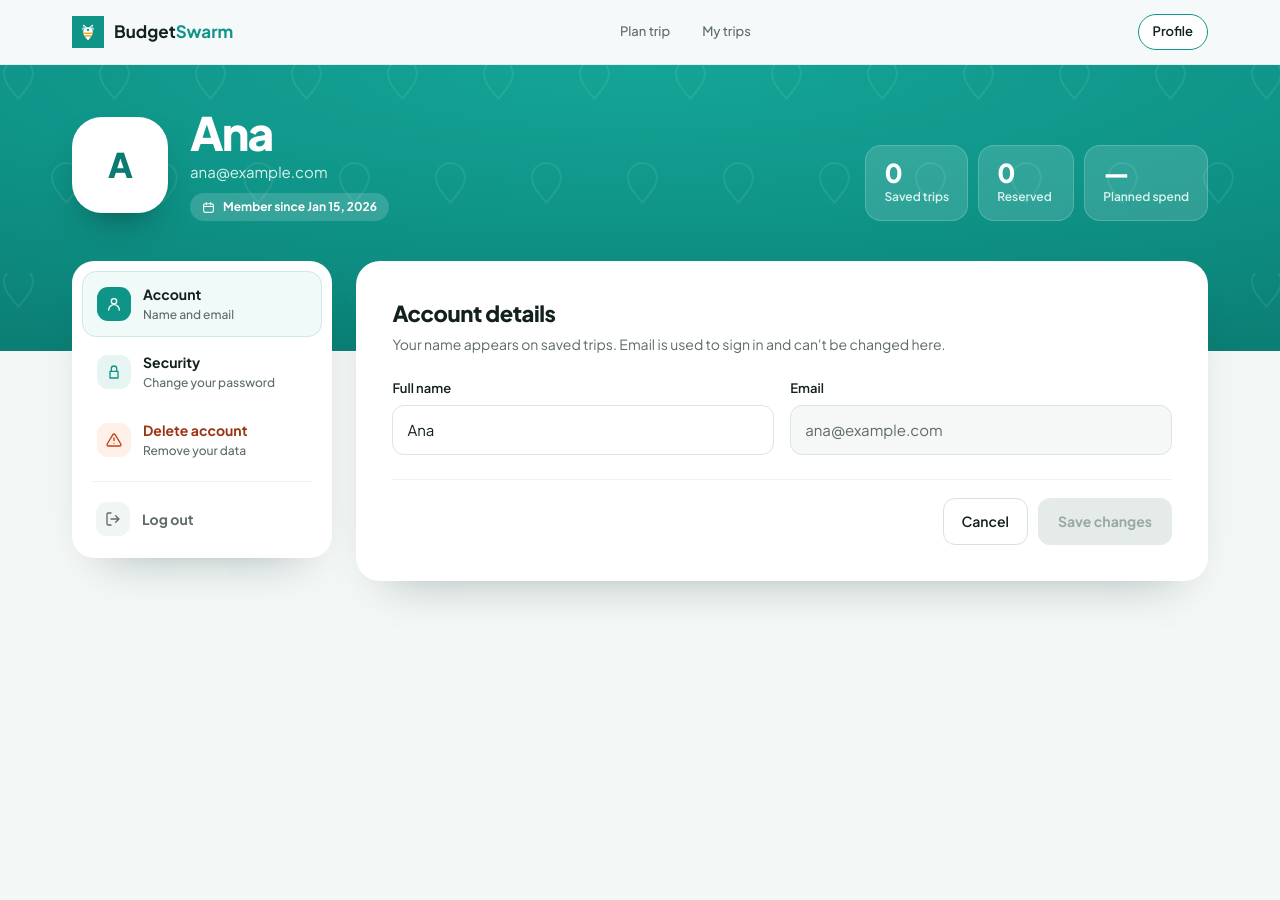
Test: ProfilePage › keeps the password button disabled until valid and matching
Click the button "Security Change your password" at {"x": 202, "y": 372}, box [82,339,322,405]
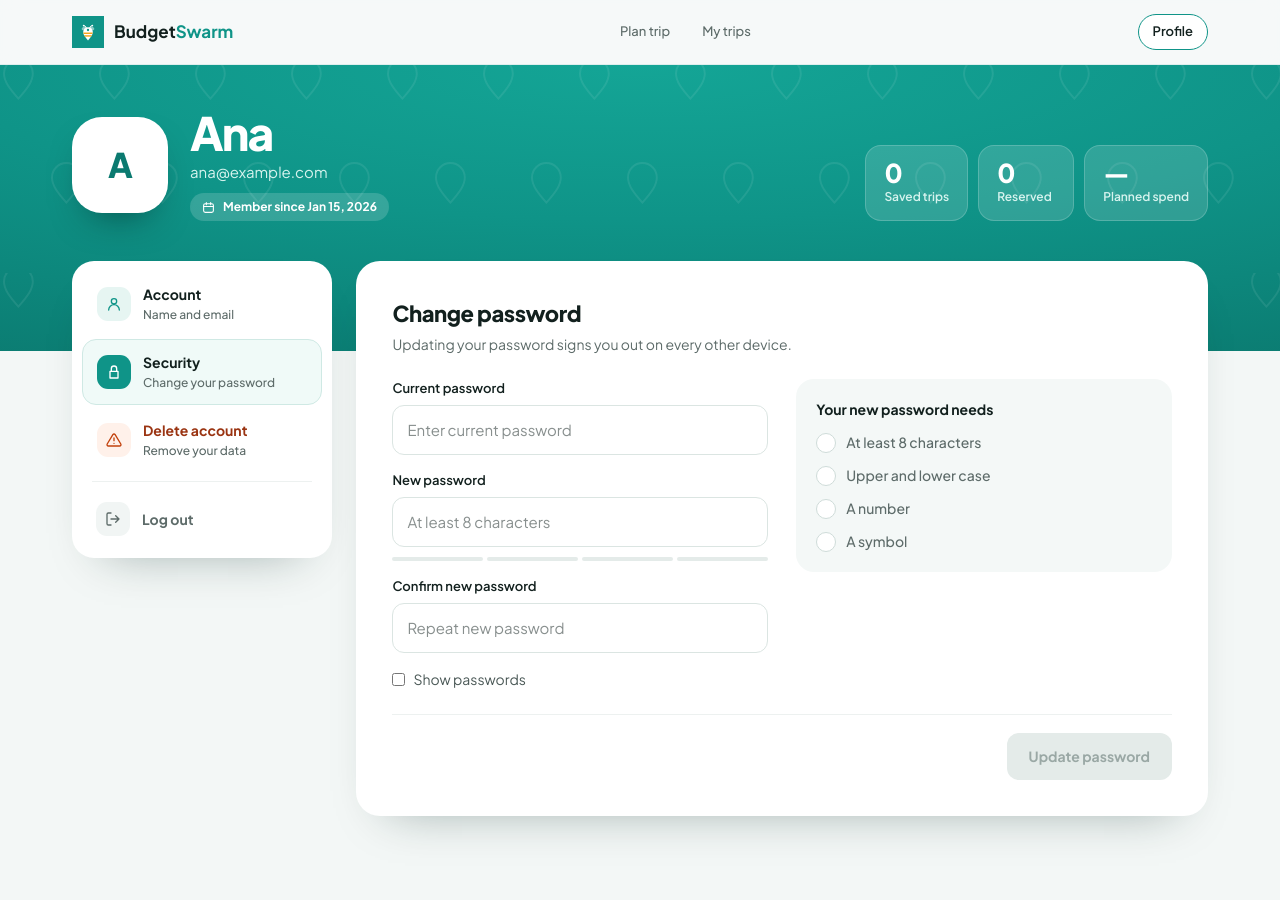
Type "password123" into the password field labelled "Current password" at {"x": 580, "y": 430}, box [392,404,768,455]
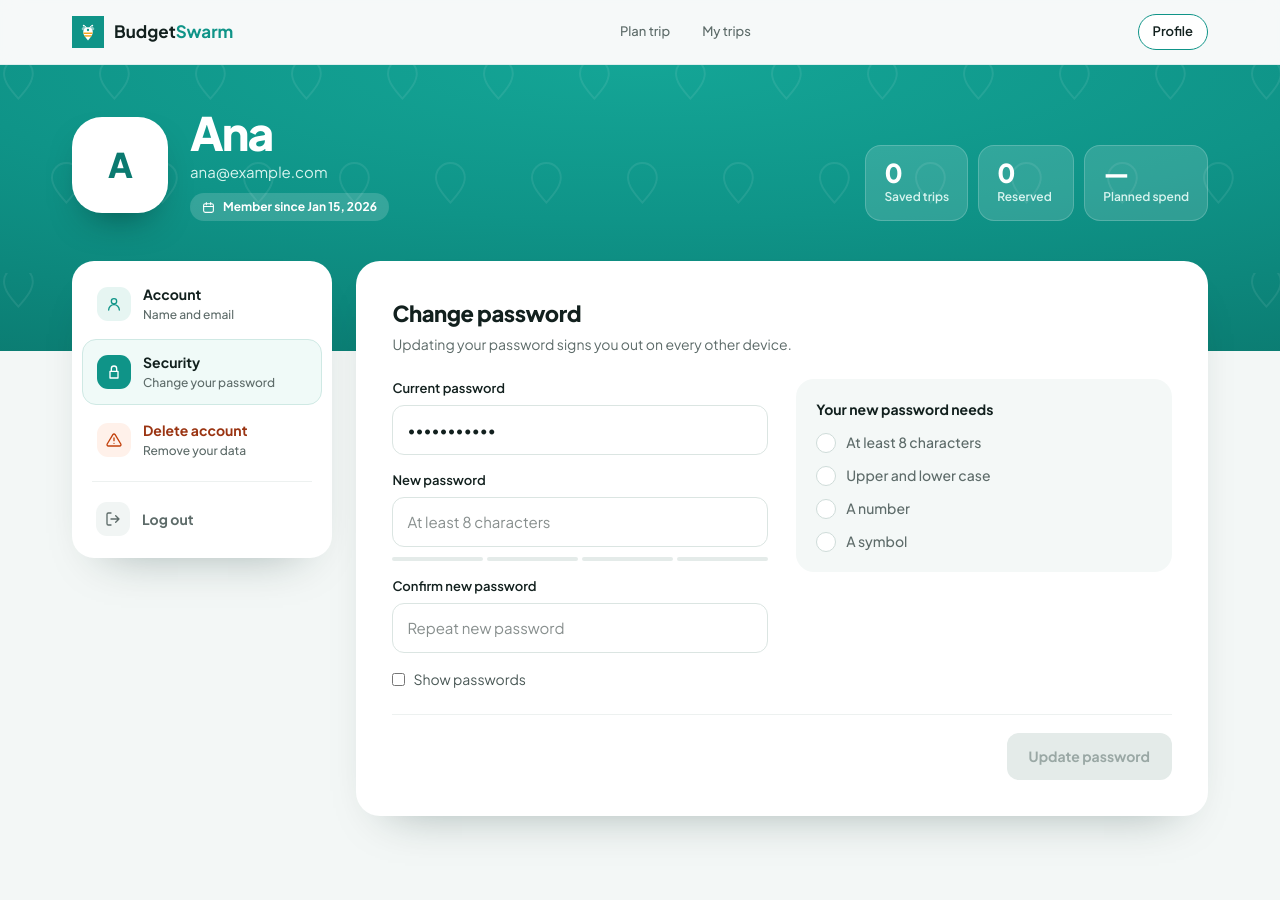
Type "newpassword456" into the password field labelled "New password" at {"x": 580, "y": 522}, box [392,496,768,547]
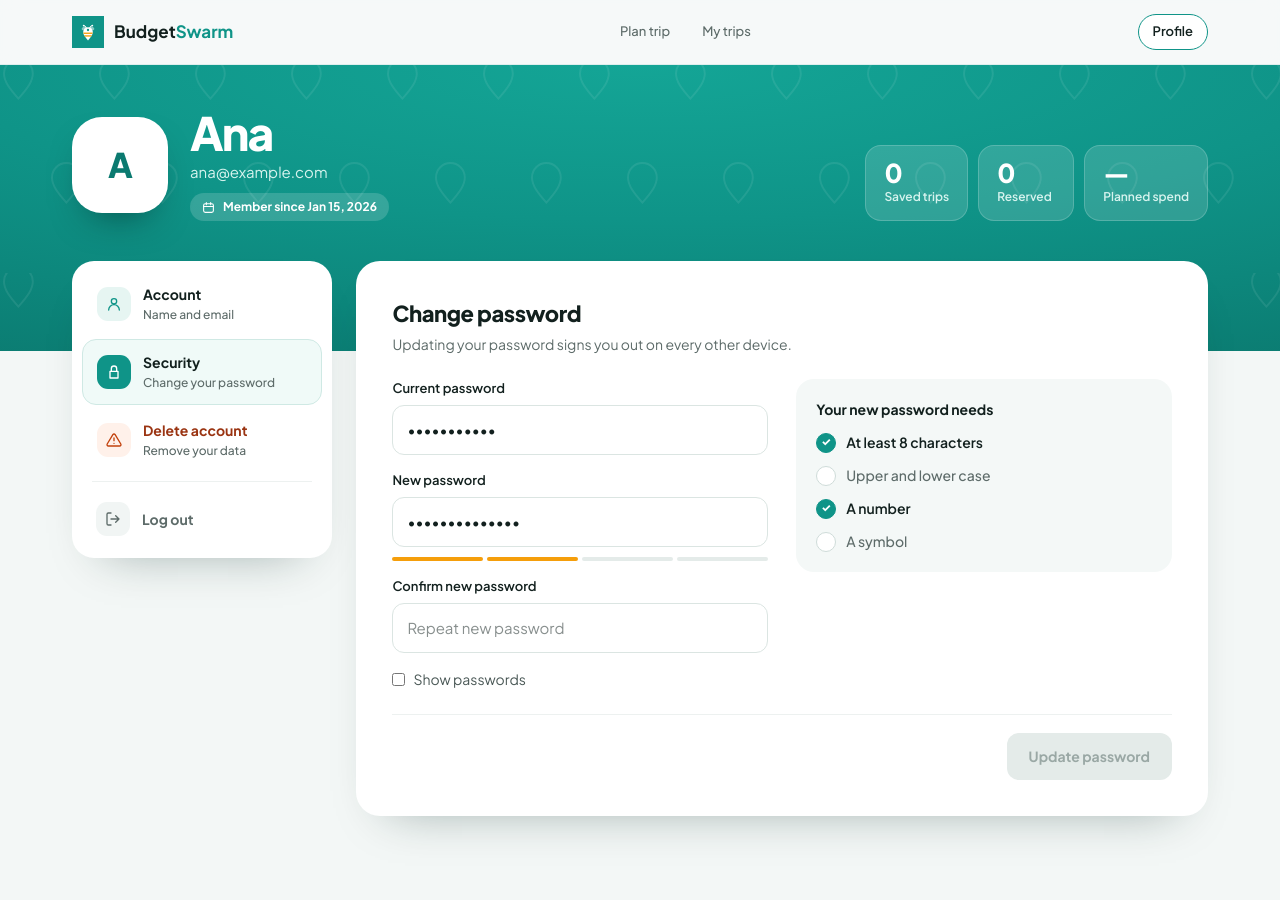
Type "different999" into the password field labelled "Confirm new password" at {"x": 580, "y": 628}, box [392,602,768,653]
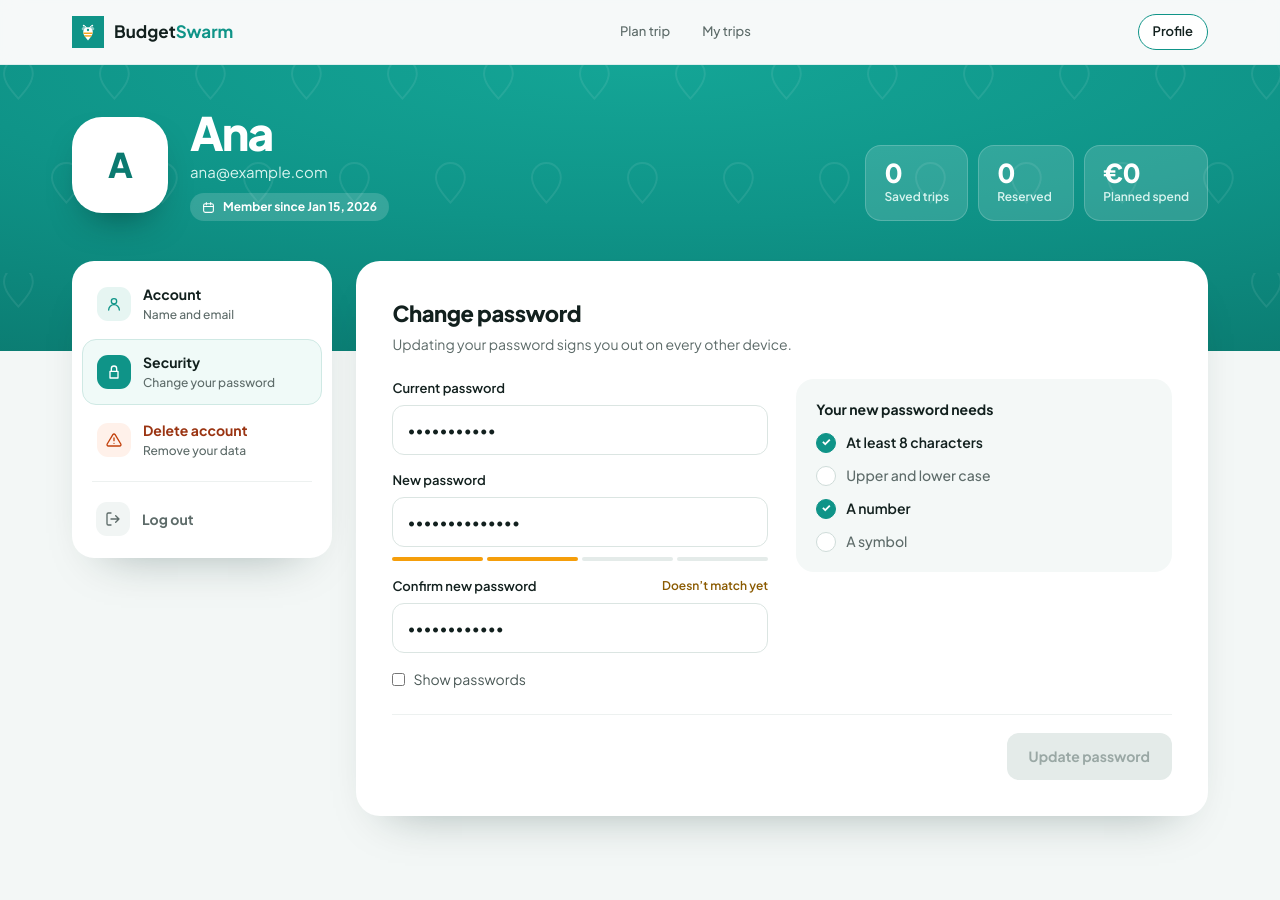
Expected: the button "Update password" is disabled, [1007,733,1172,780]
Expected: the text "Doesn’t match yet" is shown, [662,577,768,596]
